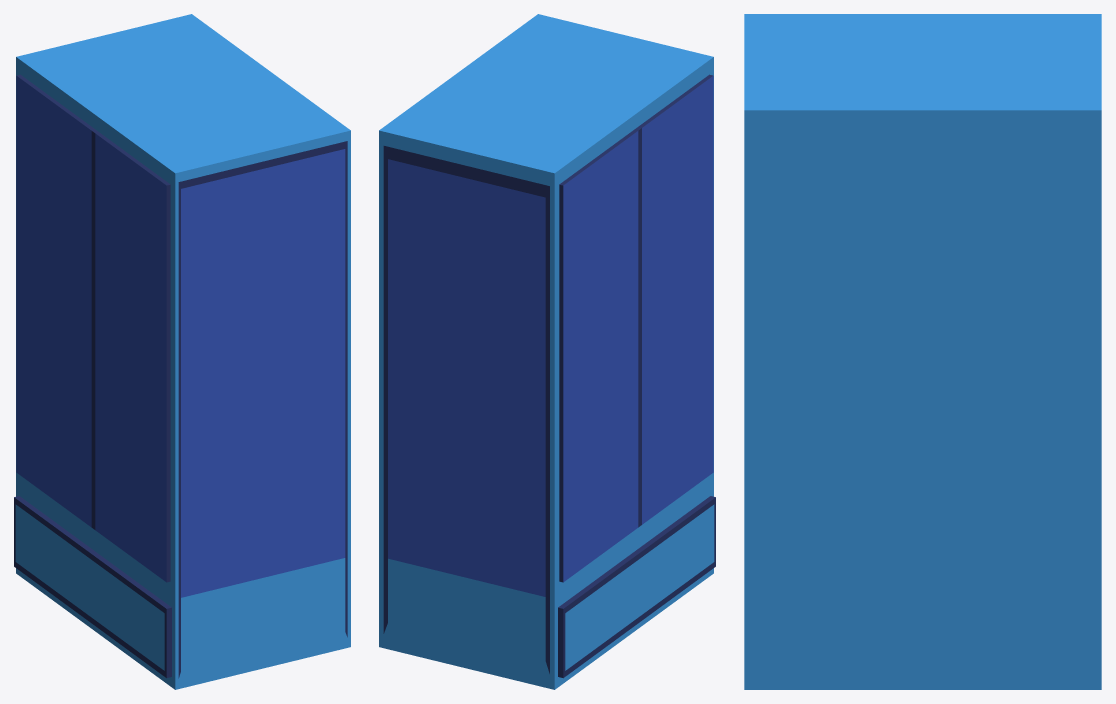
Rendered from Interior_Shelf_Wardrobe_Blue.fbx.
3 views of the same model, side by side, from view 1: azimuth 30°, elevation 25°; view 2: azimuth 150°, elevation 25°; view 3: azimuth 270°, elevation 25° (orthographic). The views are drawn at different scales.
Parts seen in each view (by area): view 1: Cube.234; view 2: Cube.234; view 3: Cube.234.
Part boxes in pixels (left/top/right/bottom): Cube.234: left=14, top=14, right=350, bottom=689; Cube.234: left=379, top=14, right=715, bottom=689; Cube.234: left=744, top=14, right=1101, bottom=689.
Bounding box in the file's own units: 56.11 × 153 × 85.4.
